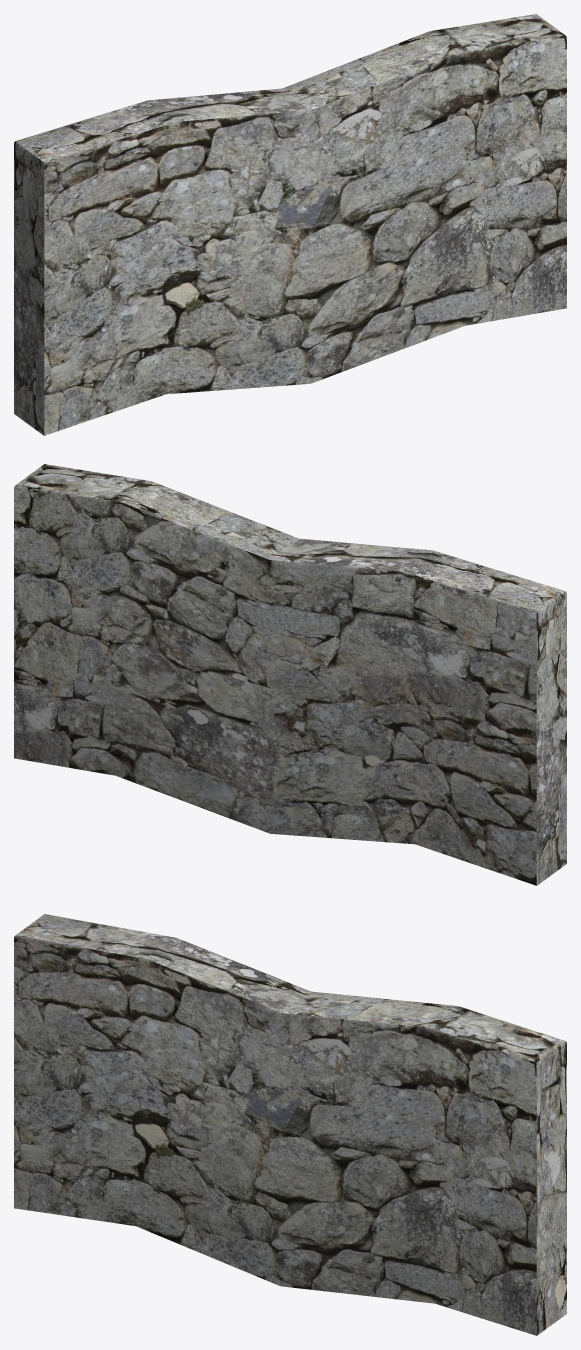
The model's file is SM_Rock_Wall_1.fbx.
3 renders of one model, top to bottom at view 1: azimuth 30°, elevation 25°; view 2: azimuth 150°, elevation 25°; view 3: azimuth 330°, elevation 25°, orthographic.
Parts seen in each view (by area): view 1: SM_Rock_Wall_1; view 2: SM_Rock_Wall_1; view 3: SM_Rock_Wall_1.
Boxes of the visible parts, box(x1,y1,x2,y2) form: SM_Rock_Wall_1: box(14, 14, 566, 435); SM_Rock_Wall_1: box(14, 464, 566, 885); SM_Rock_Wall_1: box(14, 914, 566, 1335).
Bounding box in the file's own units: 2000 × 1080 × 200.
Materials: 1 (1 with a texture image).
